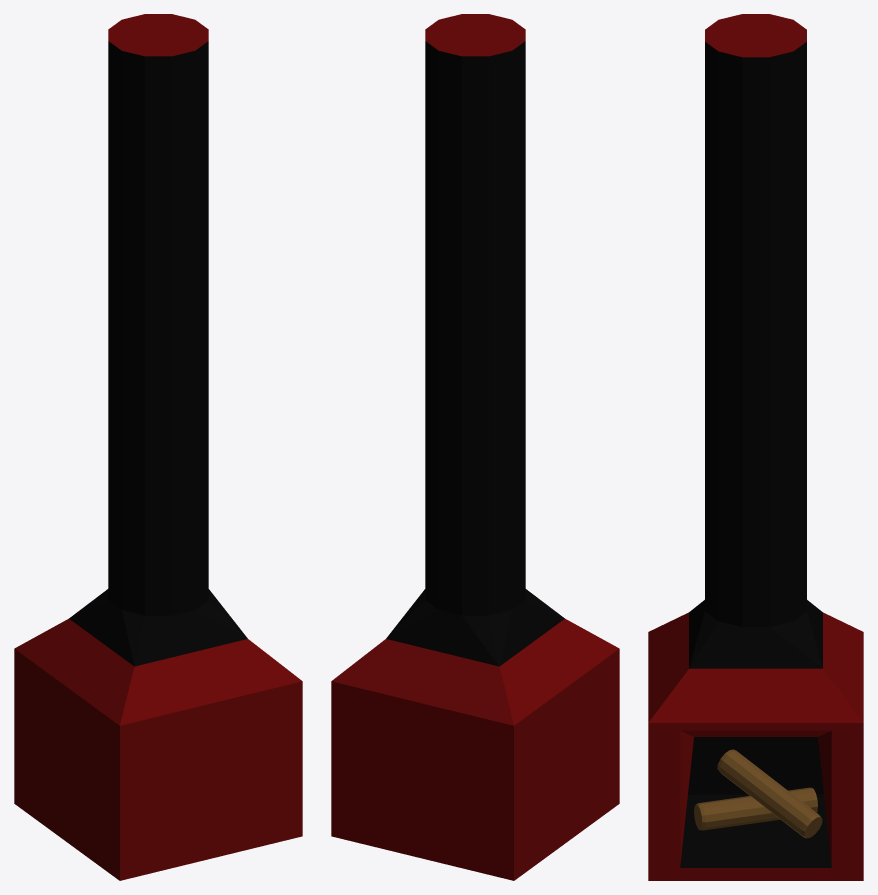
The model's file is Fireplace.fbx.
3 renders of one model, left to right at view 1: azimuth 30°, elevation 25°; view 2: azimuth 150°, elevation 25°; view 3: azimuth 270°, elevation 25°, orthographic.
Parts seen in each view (by area): view 1: Cube; view 2: Cube; view 3: Cube, Cylinder.001, Cylinder.
Boxes of the visible parts, <box> form: Cube: <box>14,14,302,880</box>; Cube: <box>331,14,619,880</box>; Cube: <box>648,14,863,880</box>; Cylinder.001: <box>717,749,822,838</box>; Cylinder: <box>694,787,817,830</box>.
Bounding box in the file's own units: 100 × 410 × 100.
